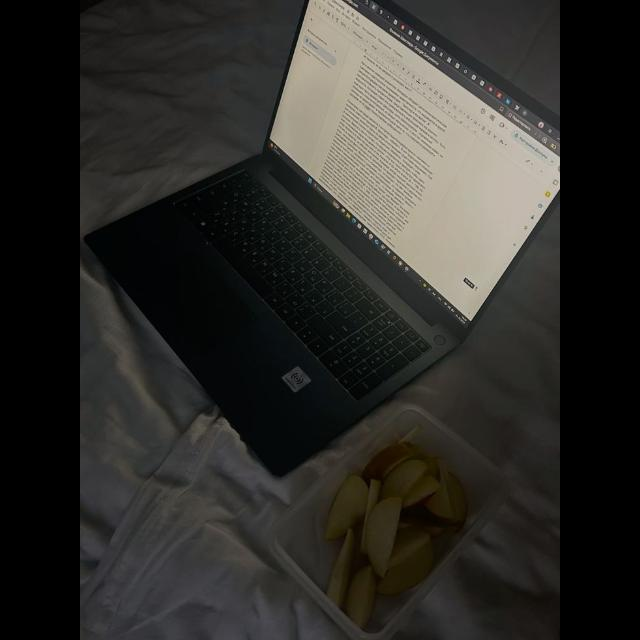laptop: (140, 6, 538, 440)
